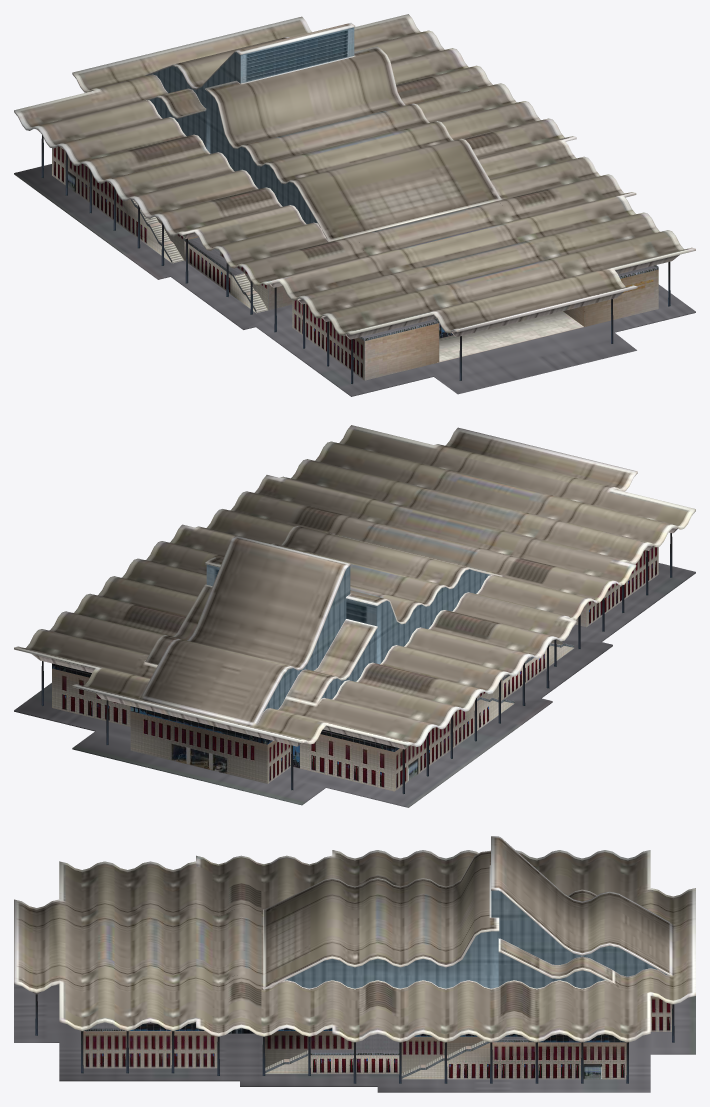
3 renders of one model, top to bottom at view 1: azimuth 30°, elevation 25°; view 2: azimuth 150°, elevation 25°; view 3: azimuth 270°, elevation 25°, orthographic. The views are drawn at different scales.
Parts seen in each view (by area): view 1: 5dc51a4e6aea330f8c097f61; view 2: 5dc51a4e6aea330f8c097f61; view 3: 5dc51a4e6aea330f8c097f61.
Boxes of the visible parts, x1,y1,x2,y2 form: 5dc51a4e6aea330f8c097f61: [14, 14, 695, 396]; 5dc51a4e6aea330f8c097f61: [14, 425, 695, 807]; 5dc51a4e6aea330f8c097f61: [14, 836, 695, 1092].
Size of the model in its own units: 158 by 56.53 by 250.
Materials: 1 (1 with a texture image).
